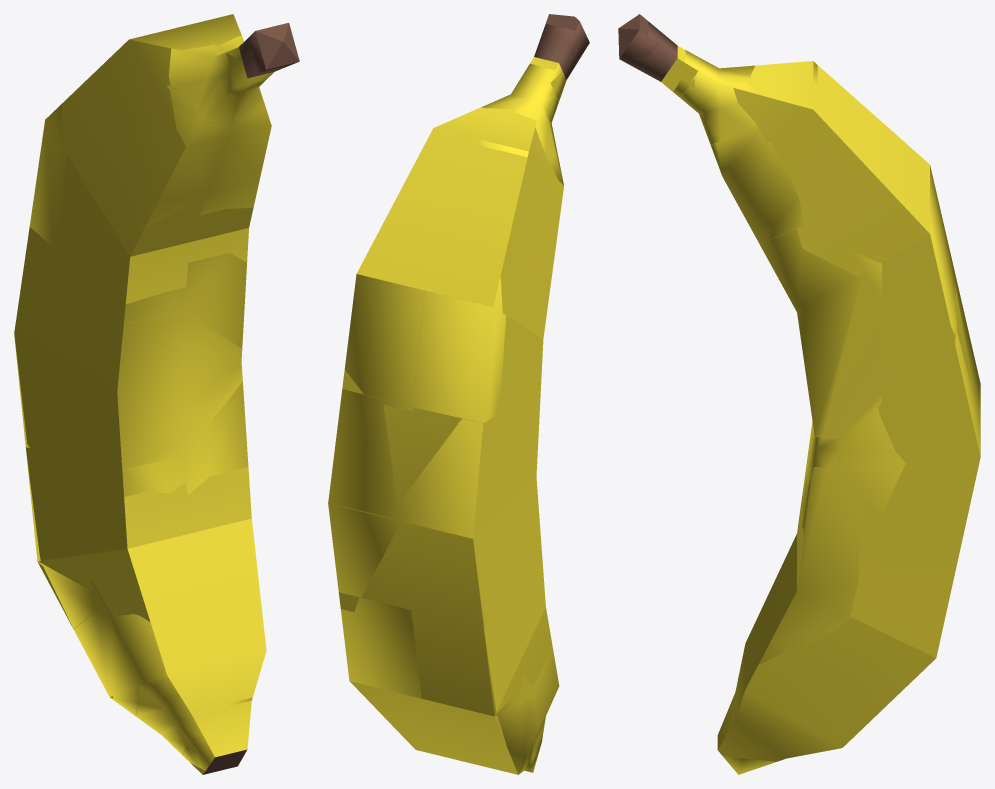
File: banana.glb
The picture shows the model from 3 angles, left to right: view 1: azimuth 30°, elevation 25°; view 2: azimuth 150°, elevation 25°; view 3: azimuth 270°, elevation 25°; orthographic projection. The views are drawn at different scales.
Visible parts, largest first — view 1: origin, banana_cell.028, banana_cell.020, banana_cell.002, banana_cell.034, banana_cell.018, banana_cell.019, banana_cell.030, banana_cell.033, banana_cell.012, banana_cell.006, banana_cell.017 (+7 smaller); view 2: origin, banana_cell.038, banana_cell.018, banana_cell.023, banana_cell.027, banana_cell, banana_cell.019, banana_cell.017, banana_cell.033, banana_cell.029, banana_cell.011, banana_cell.036 (+1 smaller); view 3: origin, banana_cell.020, banana_cell.034, banana_cell.030, banana_cell.038, banana_cell.036, banana_cell.023, banana_cell.037, banana_cell.028, banana_cell.018, banana_cell.027, banana_cell.031.
Boxes of the visible parts, x1,y1,x2,y2 form: origin: (14, 14, 293, 774); banana_cell.028: (117, 311, 242, 470); banana_cell.020: (184, 177, 260, 349); banana_cell.002: (158, 85, 231, 201); banana_cell.034: (184, 382, 248, 495); banana_cell.018: (29, 104, 66, 245); banana_cell.019: (73, 609, 138, 715); banana_cell.030: (208, 99, 271, 193); banana_cell.033: (109, 614, 179, 694); banana_cell.012: (90, 455, 186, 616); banana_cell.006: (178, 73, 249, 125); banana_cell.017: (168, 44, 230, 89); origin: (328, 14, 579, 774); banana_cell.038: (328, 389, 412, 597); banana_cell.018: (413, 276, 506, 422); banana_cell.023: (345, 274, 424, 407); banana_cell.027: (400, 417, 496, 627); banana_cell: (341, 597, 421, 698); banana_cell.019: (506, 693, 538, 774); banana_cell.017: (512, 80, 554, 153); banana_cell.033: (530, 653, 559, 729); banana_cell.029: (484, 632, 525, 744); banana_cell.011: (536, 38, 574, 89); banana_cell.036: (481, 76, 535, 108); origin: (619, 14, 980, 762); banana_cell.020: (760, 228, 894, 437); banana_cell.034: (771, 467, 868, 657); banana_cell.030: (710, 130, 805, 243); banana_cell.038: (839, 312, 980, 515); banana_cell.036: (690, 65, 759, 130); banana_cell.023: (847, 200, 955, 334); banana_cell.037: (680, 87, 746, 144); banana_cell.028: (806, 421, 839, 490); banana_cell.018: (930, 165, 955, 309); banana_cell.027: (955, 275, 980, 419); banana_cell.031: (648, 36, 699, 72).
Size of the model in its own units: 1.53 by 7.21 by 3.18.
